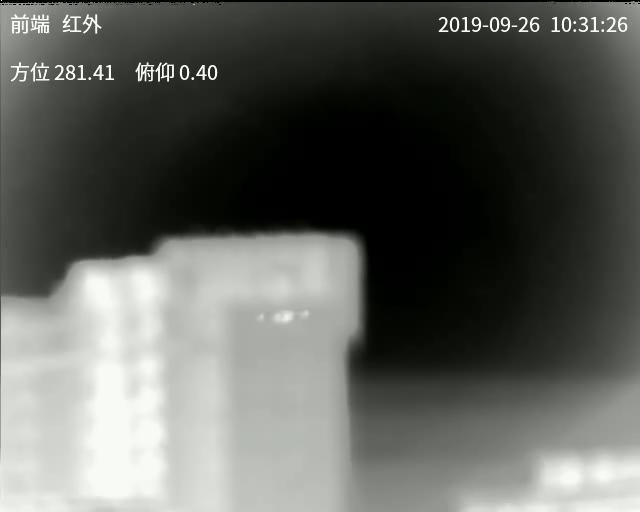uav: (253, 306, 311, 325)
